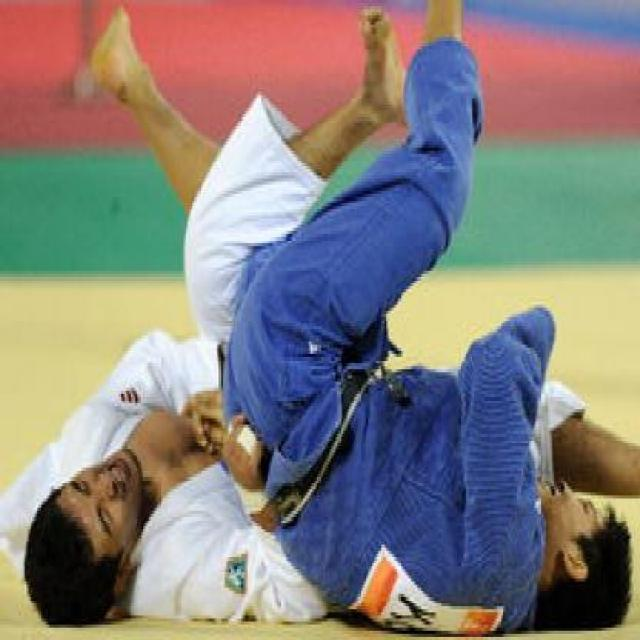fall: (10, 9, 630, 622)
